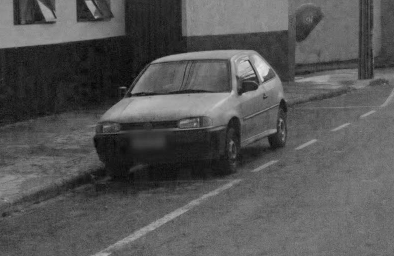car: (89, 44, 291, 181)
